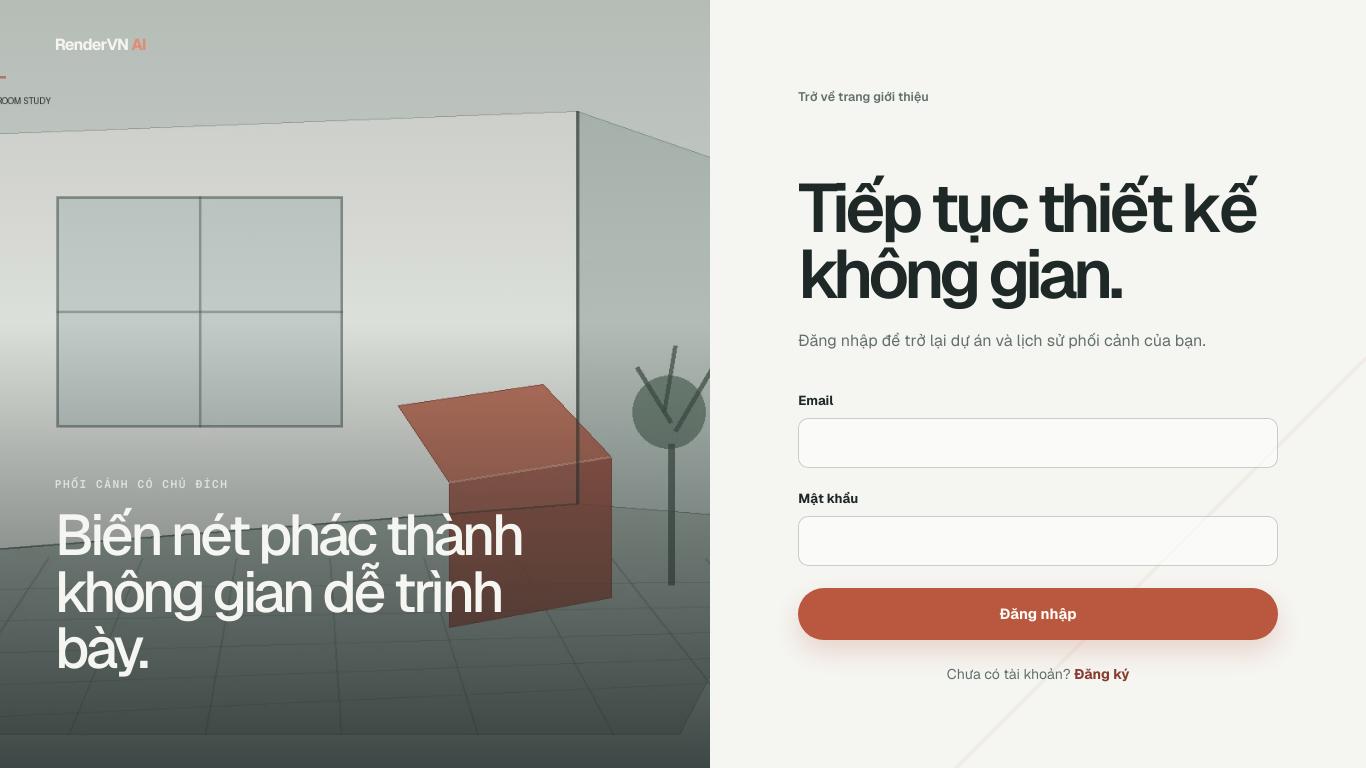
Test case: AuthForm › maps login error invalid_credentials to a Vietnamese alert
This screenshot has width=1366, height=768.
Type "architect@example.com" into the field labelled "Email".
click(1038, 443); type("architect@example.com")  # box [798,418,1278,468]
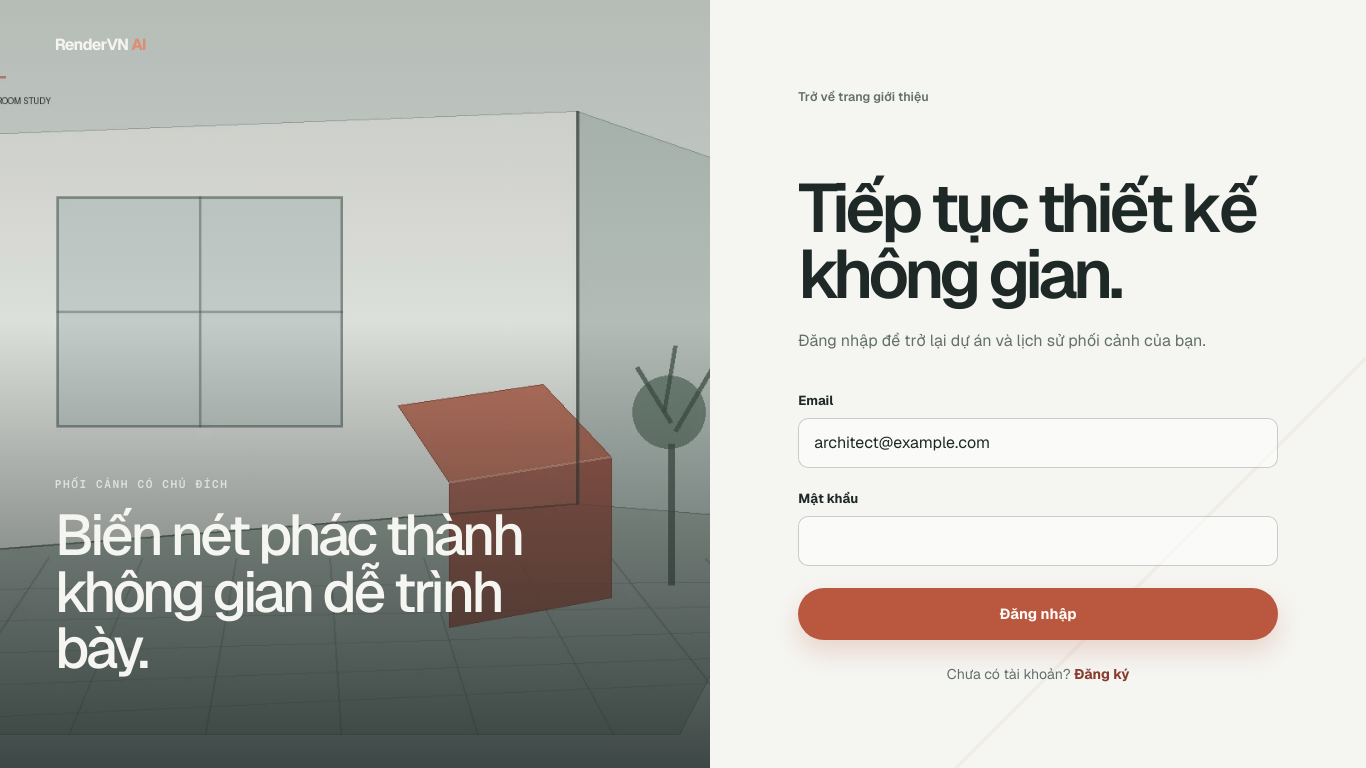
Type "StrongPass123!" into the password field labelled "Mật khẩu".
click(1038, 541); type("StrongPass123!")  # box [798,516,1278,566]
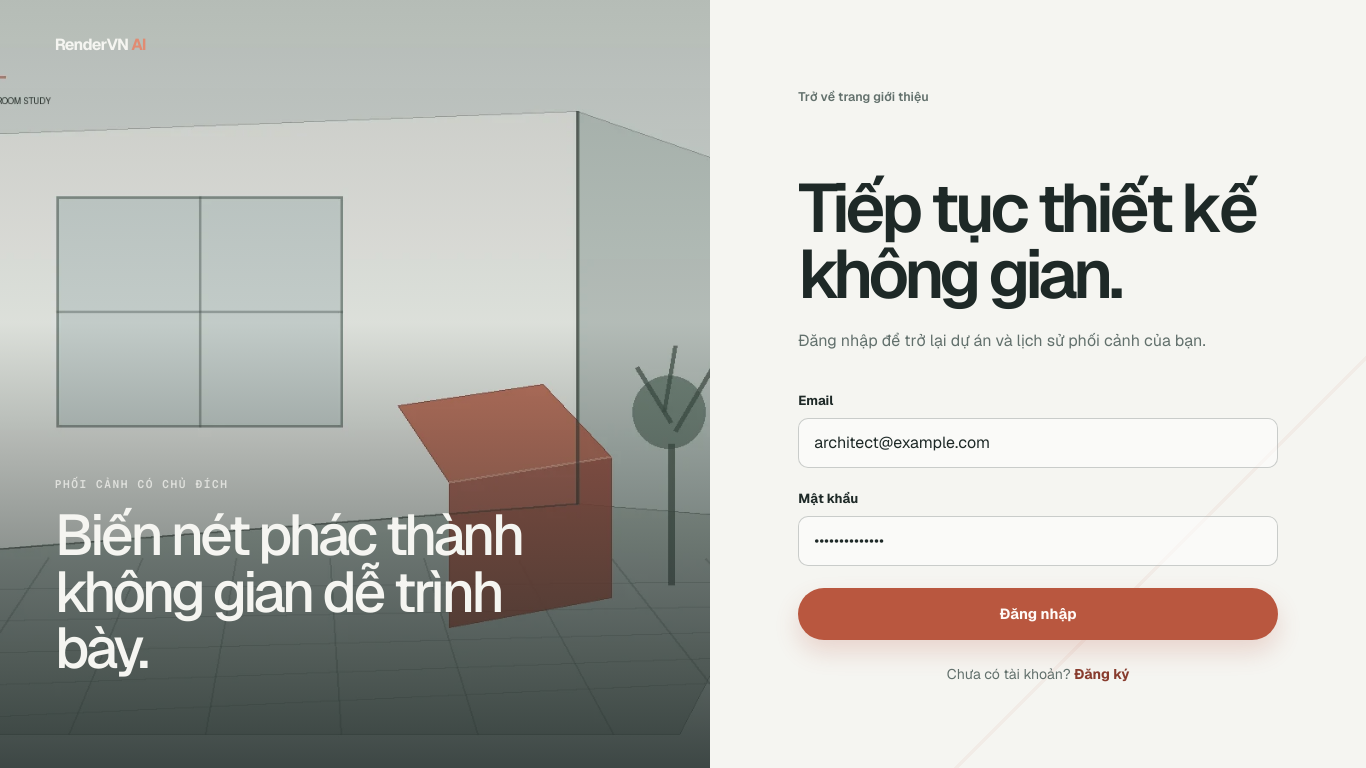
Click the button "Đăng nhập".
click(1038, 614)  # box [798,588,1278,640]
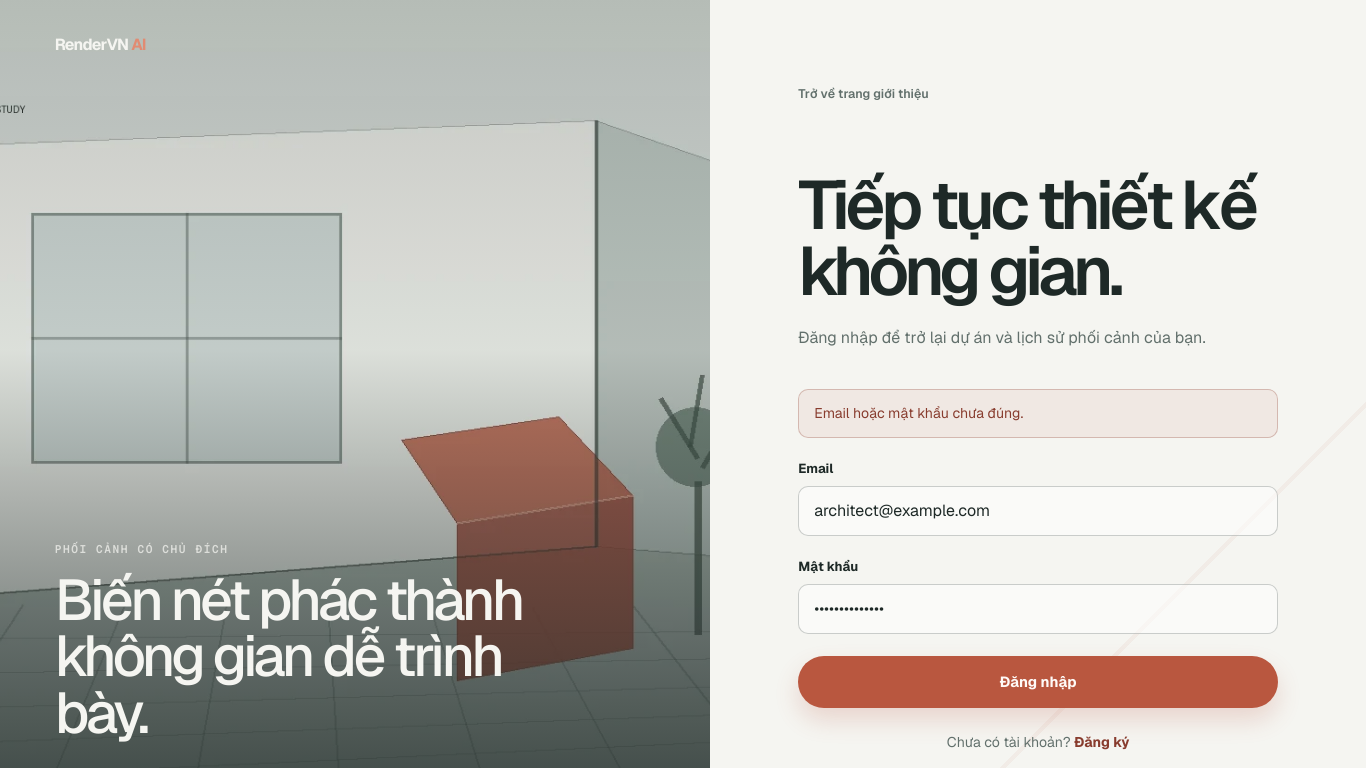
Check: the message reads "Email hoặc mật khẩu chưa đúng.", box [814,404,1023,422]
